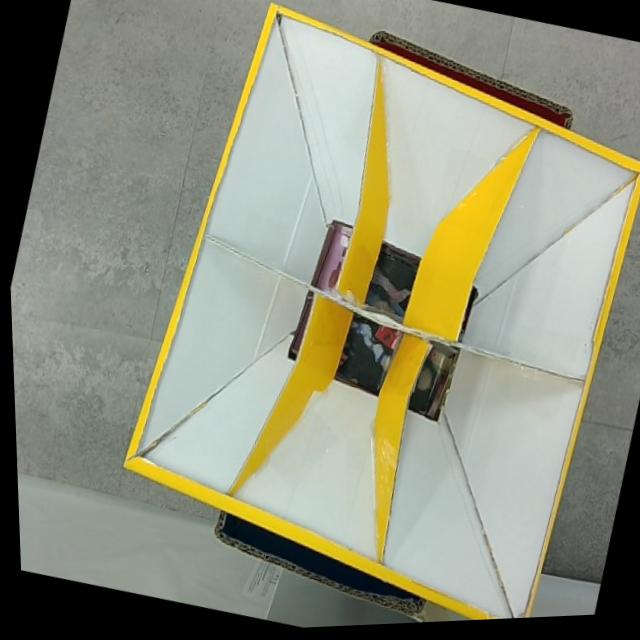box: (78, 0, 640, 637)
